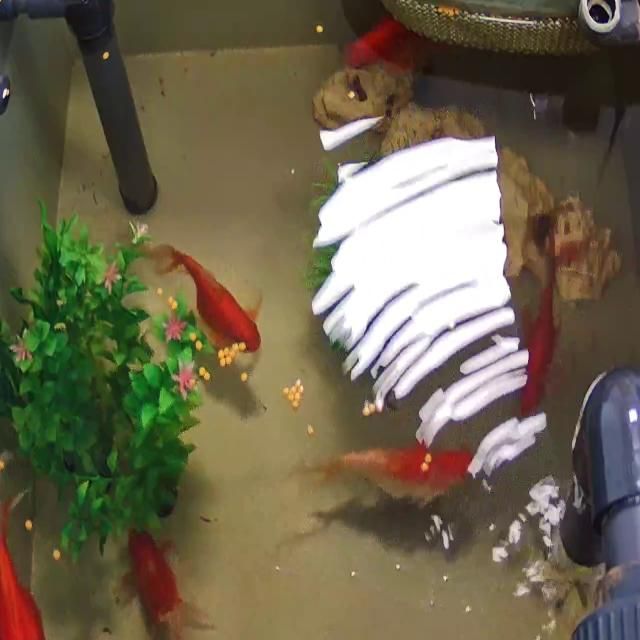fish: (120, 524, 232, 640), (142, 241, 262, 348), (0, 474, 62, 640), (323, 443, 476, 503), (518, 282, 562, 418), (347, 14, 423, 72)
